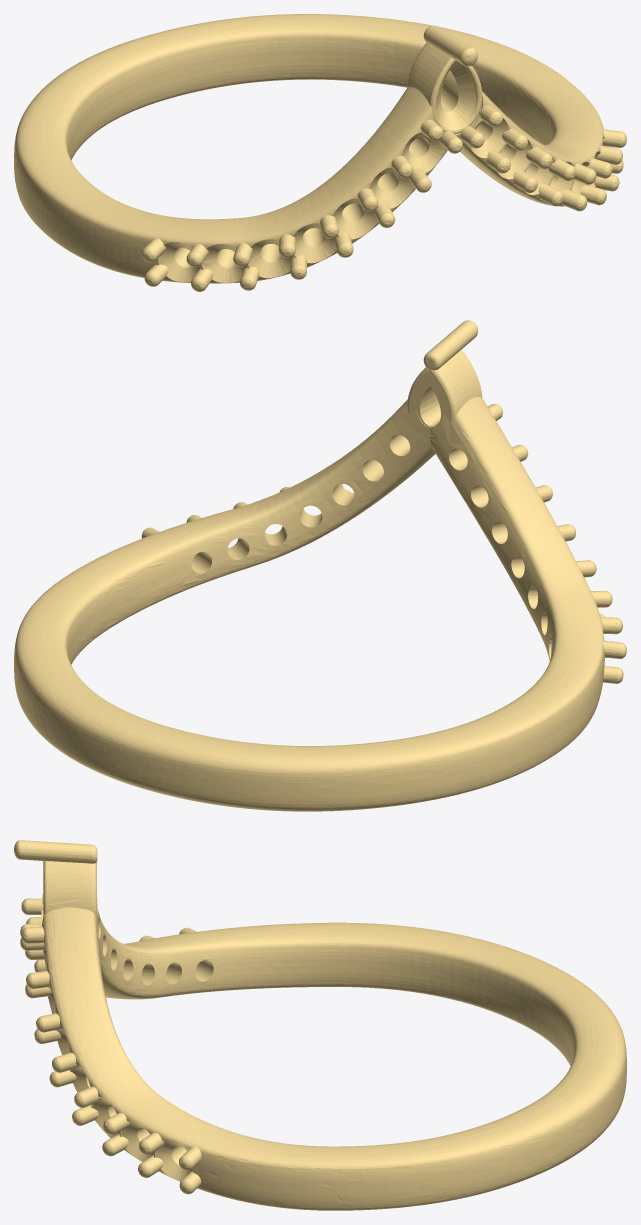
The model's file is contour-band.glb.
The picture shows the model from 3 angles, top to bottom: view 1: azimuth 30°, elevation 25°; view 2: azimuth 150°, elevation 25°; view 3: azimuth 270°, elevation 25°; orthographic projection.
Parts seen in each view (by area): view 1: Metal Yellow Gold; view 2: Metal Yellow Gold; view 3: Metal Yellow Gold.
Part boxes in pixels (x1,y1,x2,y2): Metal Yellow Gold: (14,14,626,291); Metal Yellow Gold: (14,320,626,811); Metal Yellow Gold: (14,840,626,1210).
Bounding box in the file's own units: 19.46 × 9.3 × 20.44.
